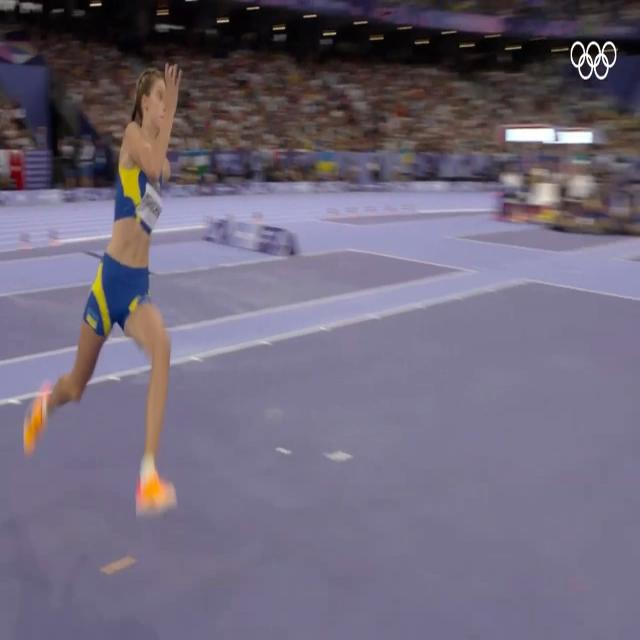run: (23, 57, 189, 514)
